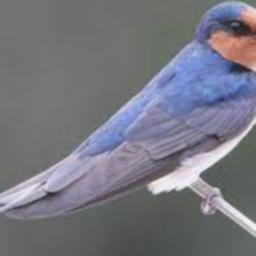Swallow: (0, 1, 256, 222)
